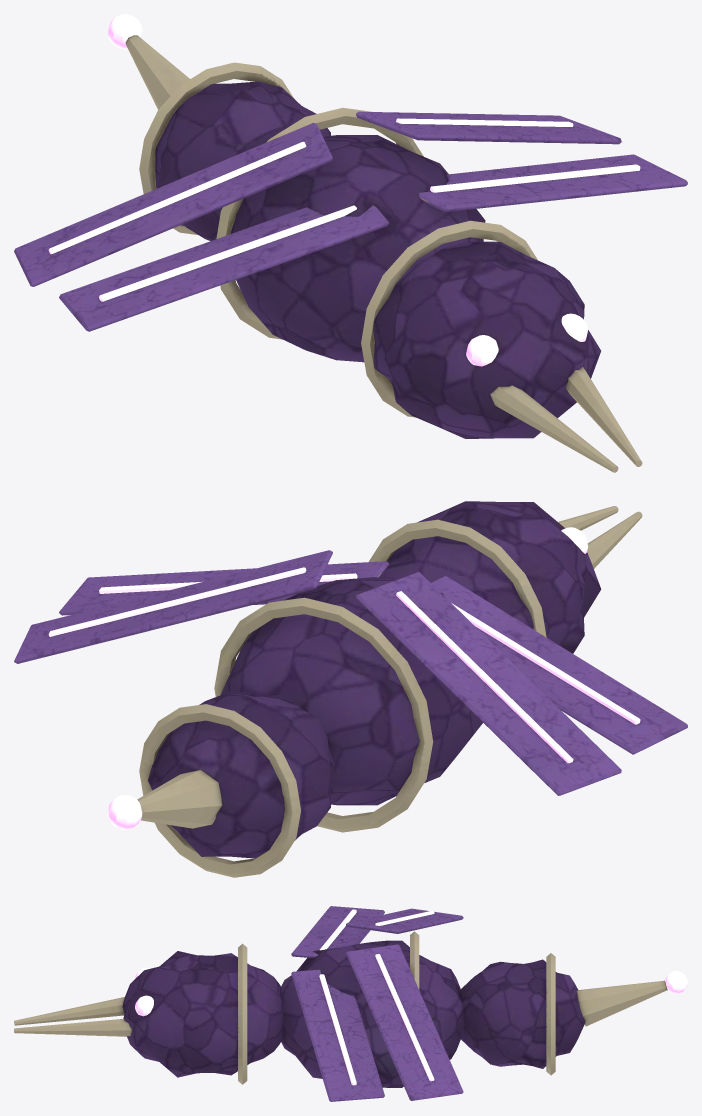
File: interceptor.glb
The picture shows the model from 3 angles, top to bottom: view 1: azimuth 30°, elevation 25°; view 2: azimuth 150°, elevation 25°; view 3: azimuth 270°, elevation 25°; orthographic projection. The views are drawn at different scales.
Visible parts, largest first — view 1: Interceptor; view 2: Interceptor; view 3: Interceptor.
Boxes of the visible parts, left/top/right/bottom form: Interceptor: left=14, top=14, right=687, bottom=472; Interceptor: left=14, top=501, right=687, bottom=877; Interceptor: left=14, top=906, right=687, bottom=1101.
Size of the model in its own units: 2.75 by 1 by 4.05.
2 materials, 1 textured.
